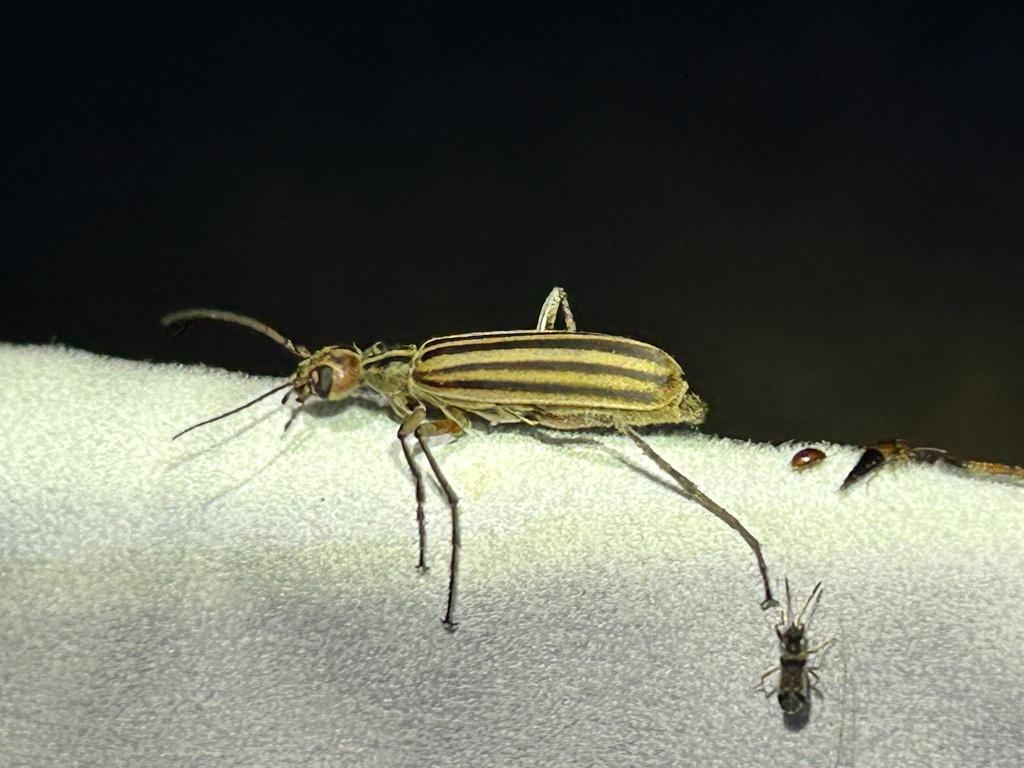blister_beetle: (107, 188, 898, 663)
